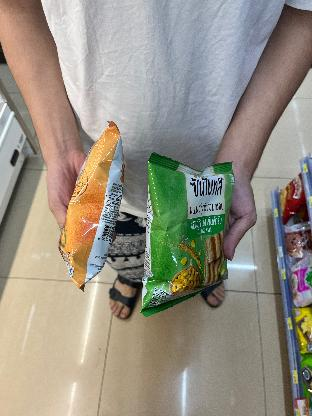Plastic Packaging: (133, 154, 235, 312), (57, 118, 126, 292)
